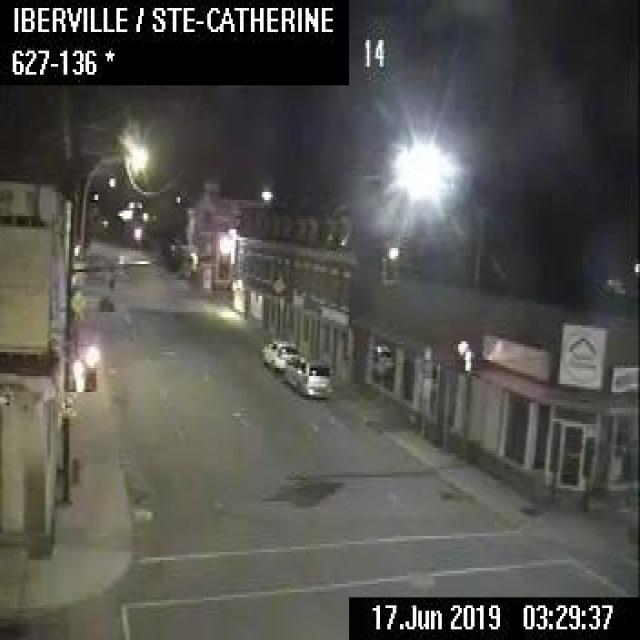vehicle: (283, 356, 332, 396), (260, 339, 297, 371)
